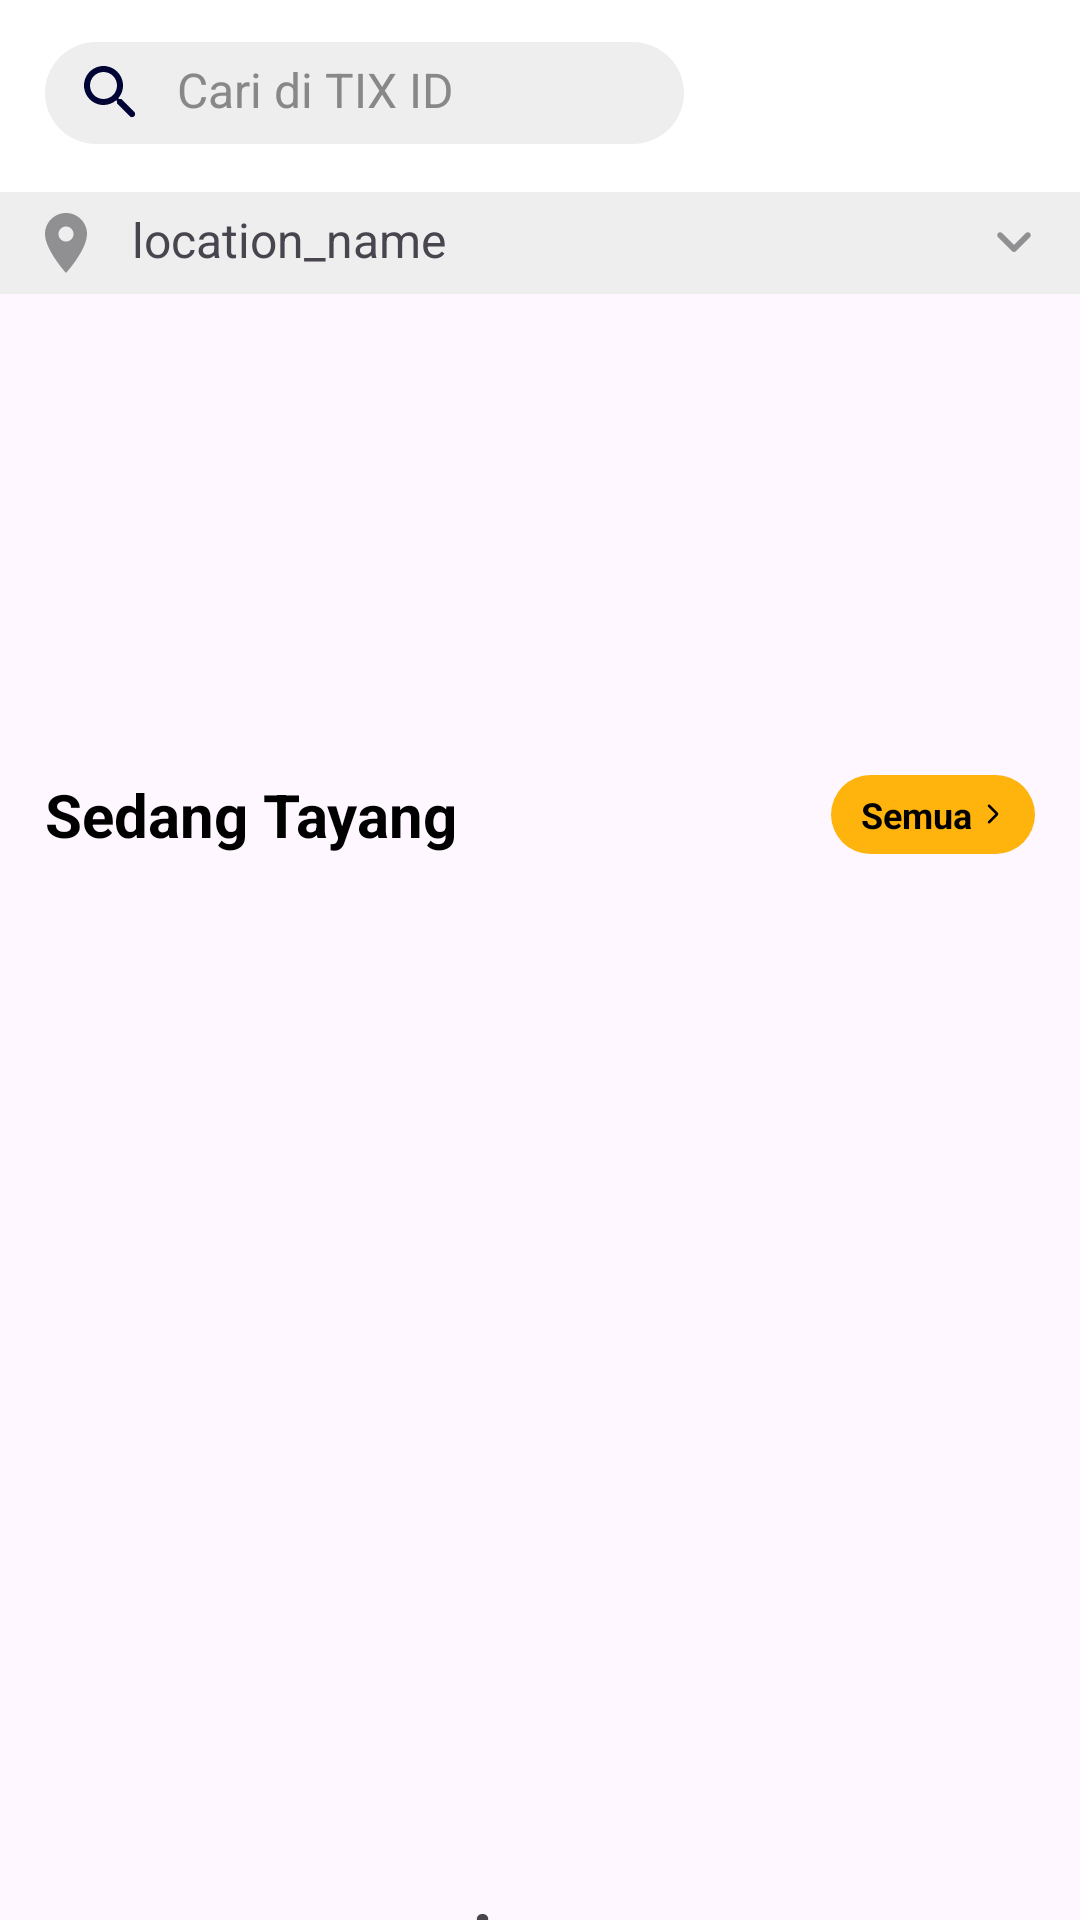

Where icons sit on this 1080w x 1920h app screen, as rect(x1, y1, x2, y2):
arrow down: rect(997, 232, 1031, 252)
